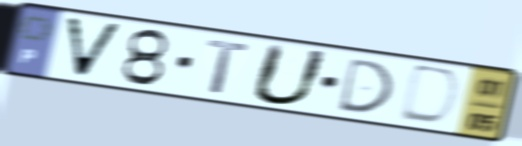8: (120, 27, 172, 87)
D: (394, 61, 464, 129), (334, 56, 397, 116)
T: (203, 37, 254, 97)
U: (246, 41, 334, 108)
V: (61, 13, 127, 81)
